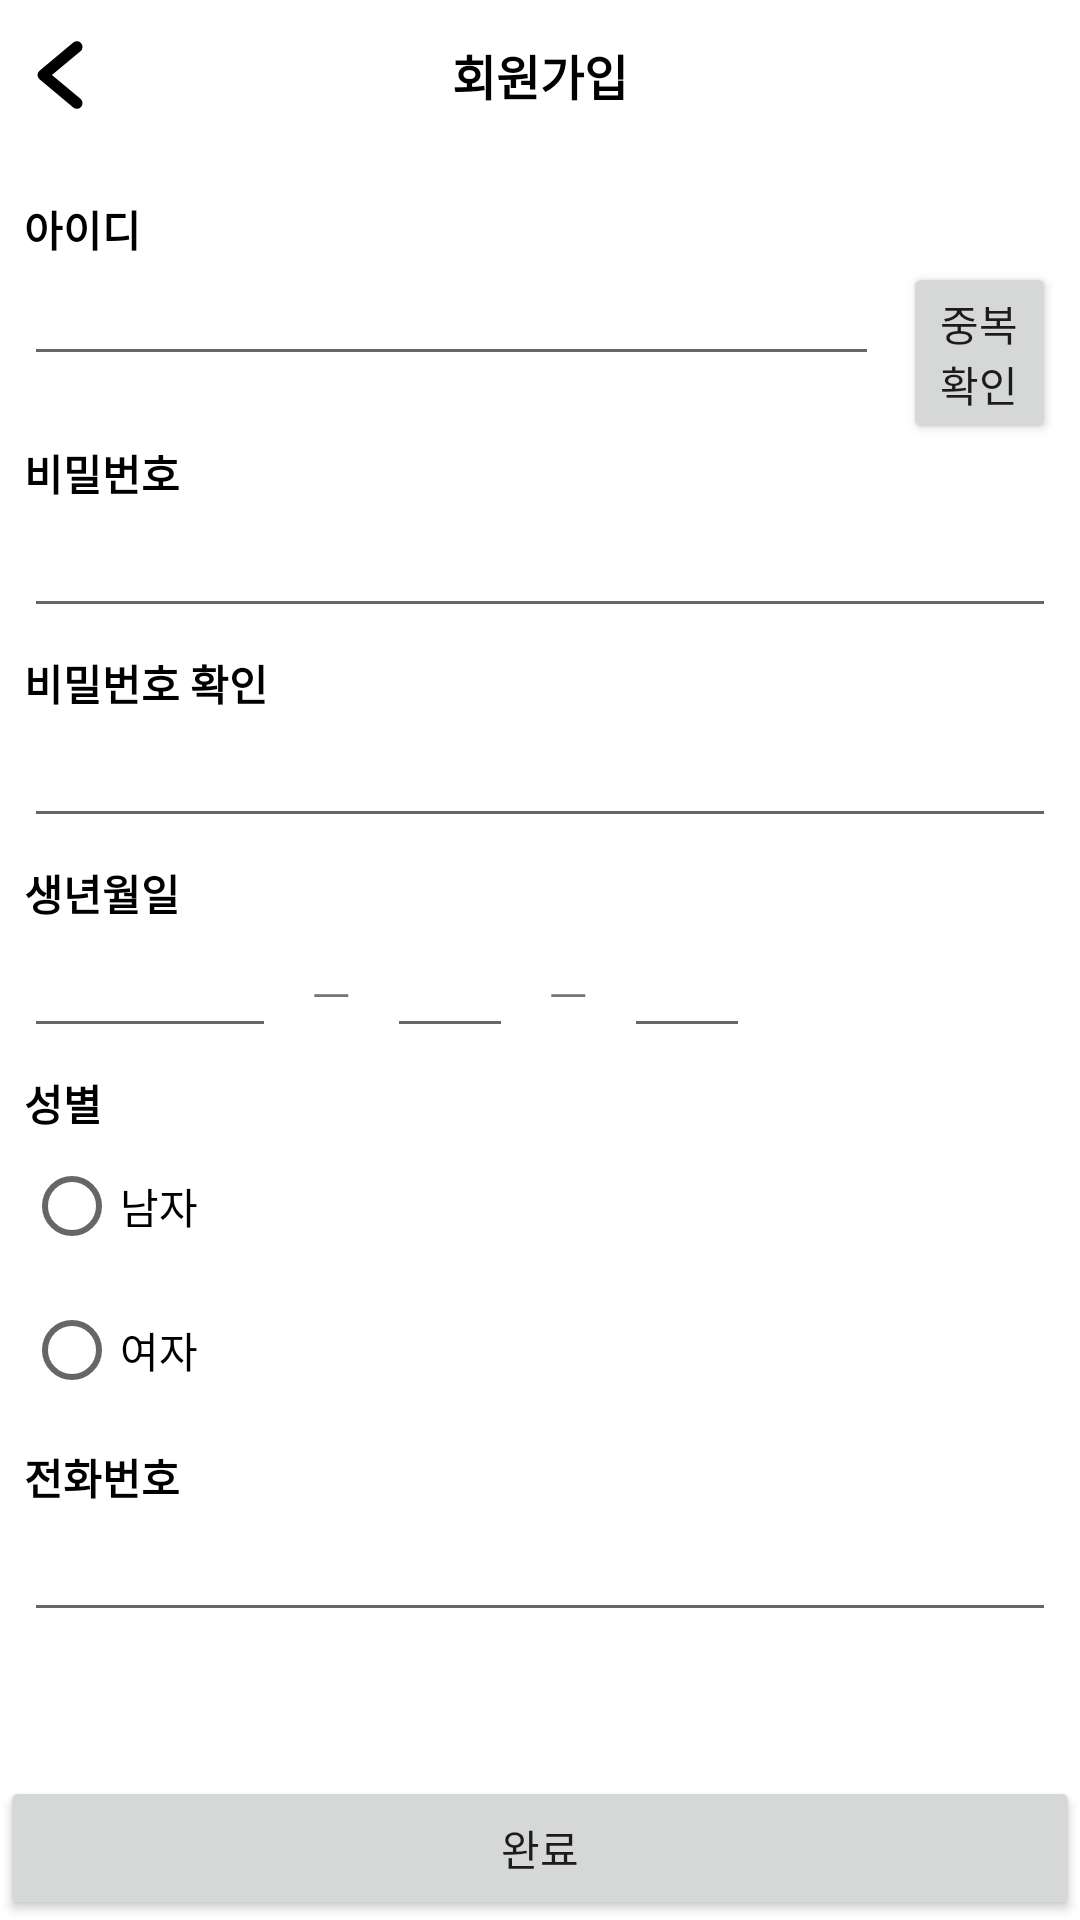

Icons on this 1080w x 1920h Android screen, each with its box as (x1, y1, x2, y2):
back: (37, 41, 83, 109)
